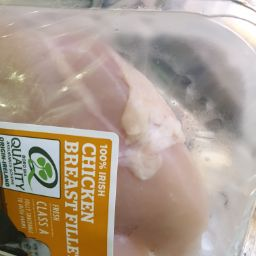Chicken breast: (2, 4, 253, 246)
